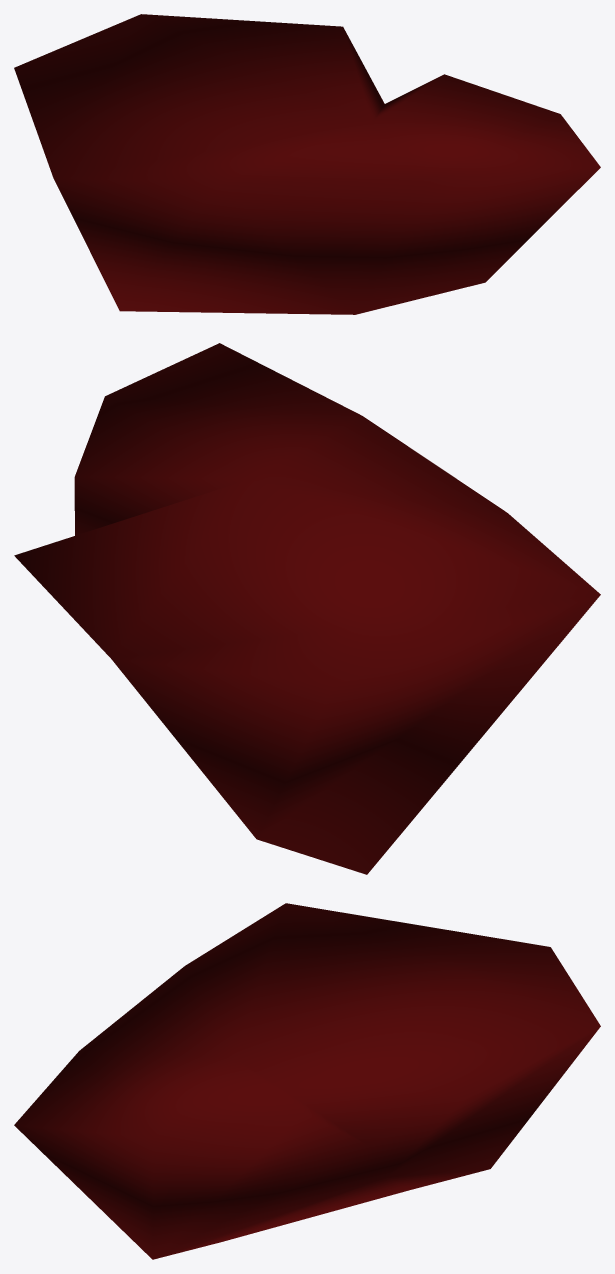
The model's file is Ile_2_Collision.FBX.
3 views of the same model, one above another, from view 1: azimuth 30°, elevation 25°; view 2: azimuth 150°, elevation 25°; view 3: azimuth 270°, elevation 25° (orthographic). The views are drawn at different scales.
Parts seen in each view (by area): view 1: Ile_2_Collision; view 2: Ile_2_Collision; view 3: Ile_2_Collision.
Boxes of the visible parts, x1,y1,x2,y2 form: Ile_2_Collision: (14, 14, 600, 314); Ile_2_Collision: (14, 343, 600, 874); Ile_2_Collision: (14, 903, 600, 1259).
Bounding box in the file's own units: 4517 × 4771 × 1991.
